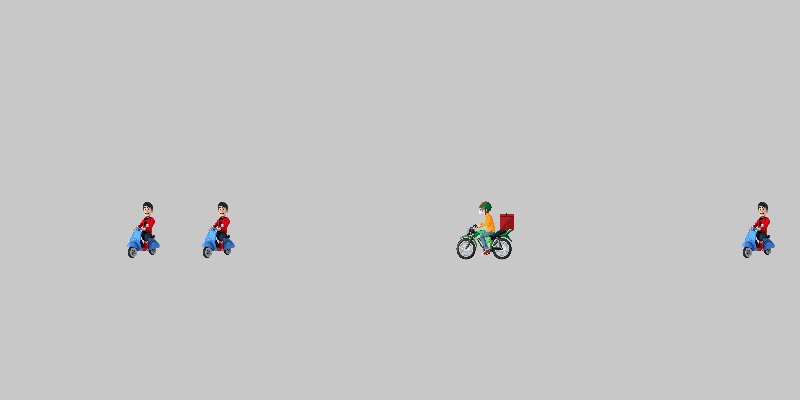helmet: (455, 200, 515, 260)
no_helmet: (115, 200, 175, 260), (190, 200, 250, 260), (730, 200, 790, 260)
